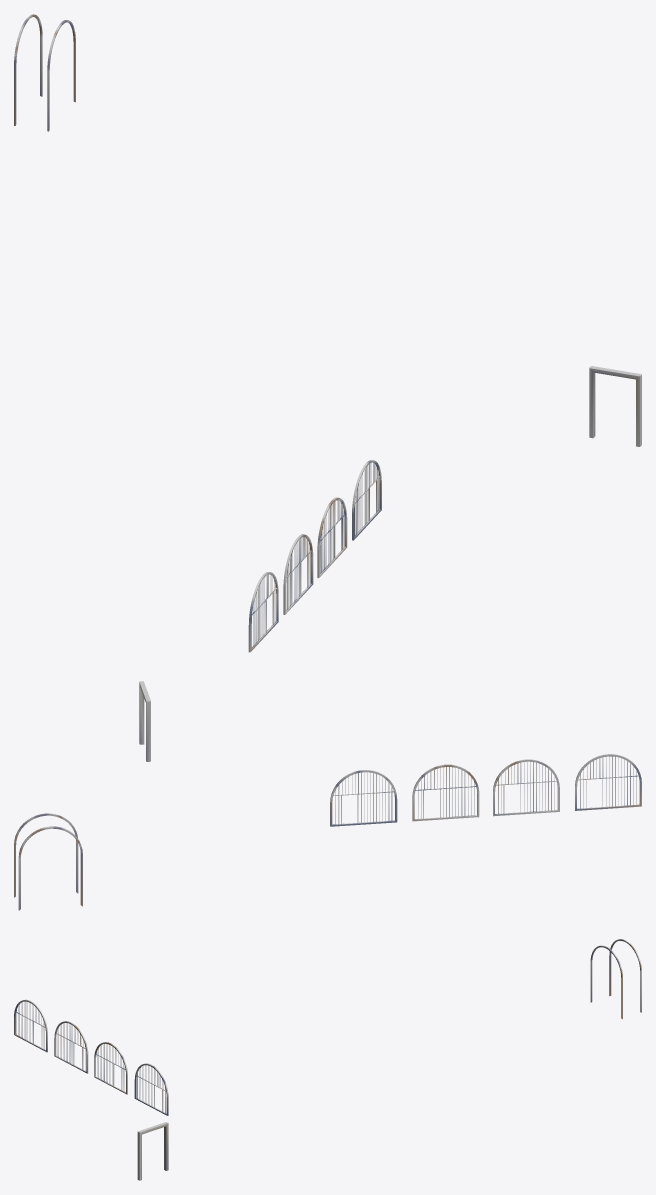
File: ferrures.glb
3 views of the same model, one above another, from view 1: azimuth 30°, elevation 25°; view 2: azimuth 150°, elevation 25°; view 3: azimuth 270°, elevation 25° (orthographic). The views are drawn at different scales.
Visible parts, largest first — view 1: FERRURES; view 2: FERRURES; view 3: FERRURES.
Boxes of the visible parts, <box> form: FERRURES: <box>14,14,641,652</box>; FERRURES: <box>14,681,641,910</box>; FERRURES: <box>14,939,641,1180</box>.
Size of the model in its own units: 31.45 by 15.49 by 51.9.
